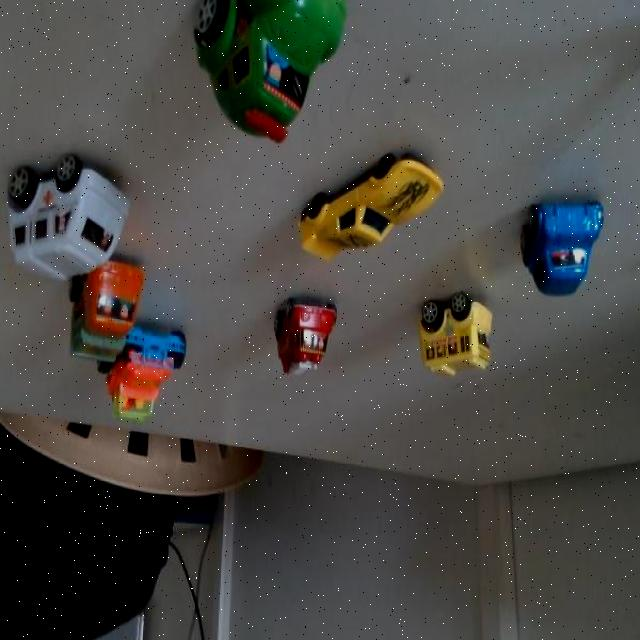car: (177, 0, 372, 149), (5, 130, 143, 300), (303, 142, 439, 268), (112, 323, 197, 430), (410, 276, 498, 379), (526, 192, 606, 297), (264, 279, 340, 389), (72, 251, 141, 370)
